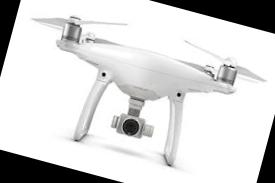drone: (5, 0, 275, 160)
